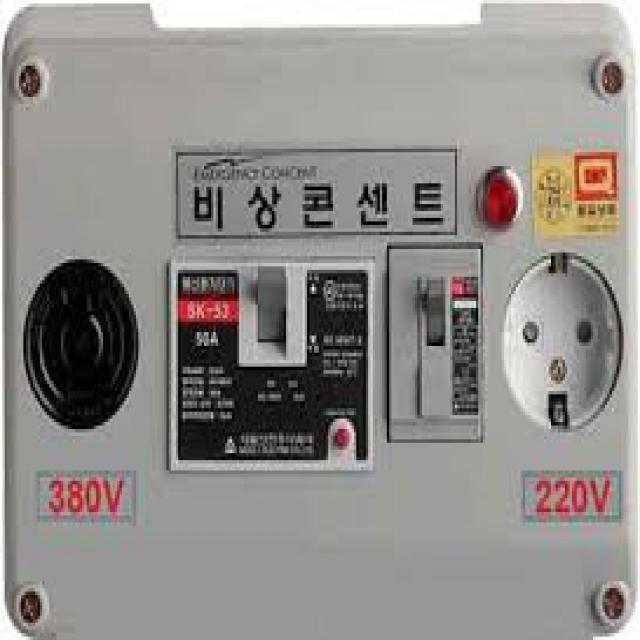typeb: (489, 231, 637, 462)
